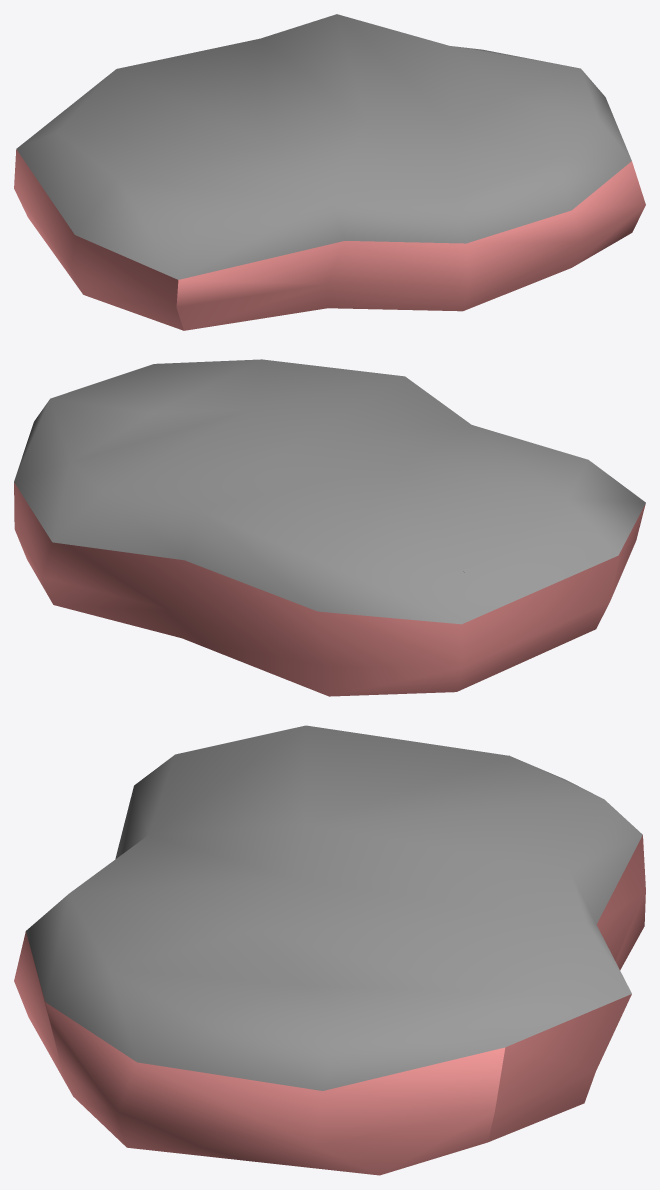
File: waterfall_rock_5.gltf
The picture shows the model from 3 angles, top to bottom: view 1: azimuth 30°, elevation 25°; view 2: azimuth 150°, elevation 25°; view 3: azimuth 270°, elevation 25°; orthographic projection. The views are drawn at different scales.
Visible parts, largest first — view 1: waterfall_rock_5; view 2: waterfall_rock_5; view 3: waterfall_rock_5.
Boxes of the visible parts, box(x1,y1,x2,y2) form: waterfall_rock_5: box(14, 14, 645, 330); waterfall_rock_5: box(14, 359, 645, 696); waterfall_rock_5: box(14, 725, 645, 1175).
Size of the model in its own units: 2.85 by 0.5855 by 2.22.
